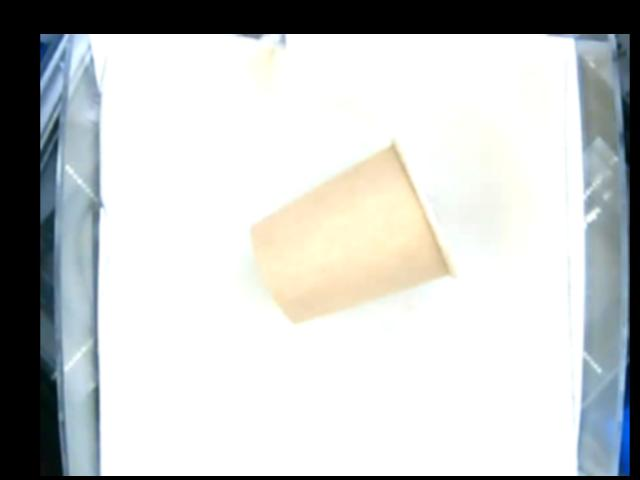Cup: (247, 140, 456, 323)
